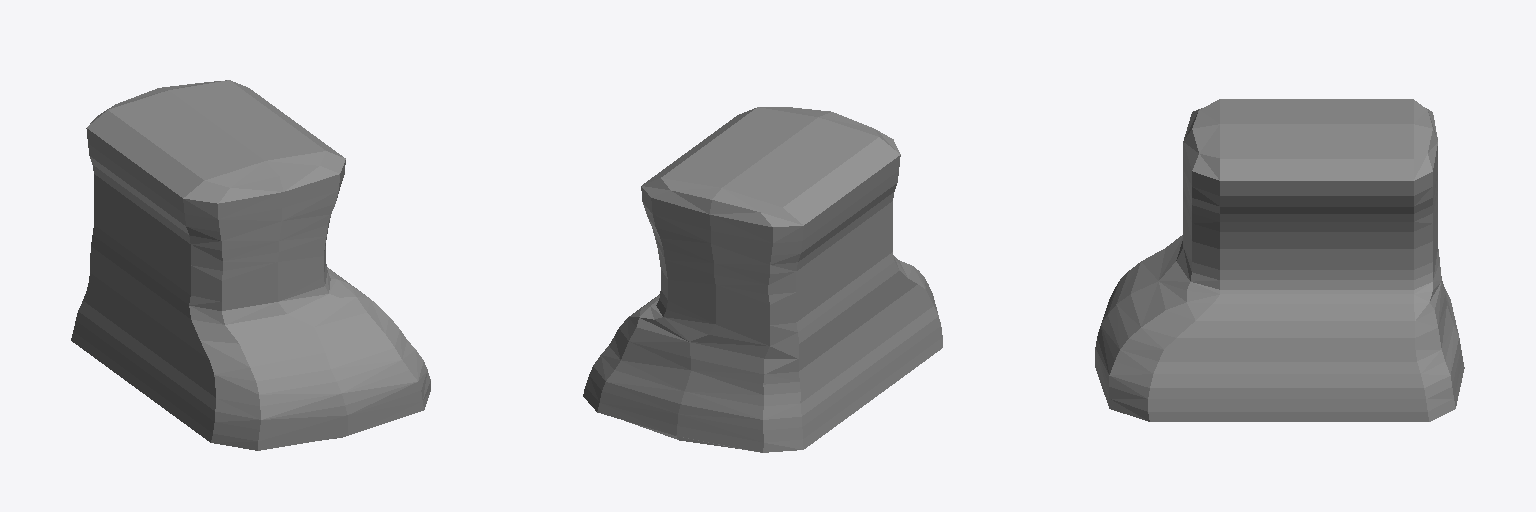
File: MinionAvatarPiernaIzq.obj
3 renders of one model, left to right at view 1: azimuth 30°, elevation 25°; view 2: azimuth 150°, elevation 25°; view 3: azimuth 270°, elevation 25°, orthographic.
Parts seen in each view (by area): view 1: PiernaIzq; view 2: PiernaIzq; view 3: PiernaIzq.
Part boxes in pixels (x1,y1,x2,y2): PiernaIzq: (71, 80, 430, 450); PiernaIzq: (583, 107, 942, 452); PiernaIzq: (1095, 99, 1464, 421).
Bounding box in the file's own units: 1.45 × 1.53 × 2.1.